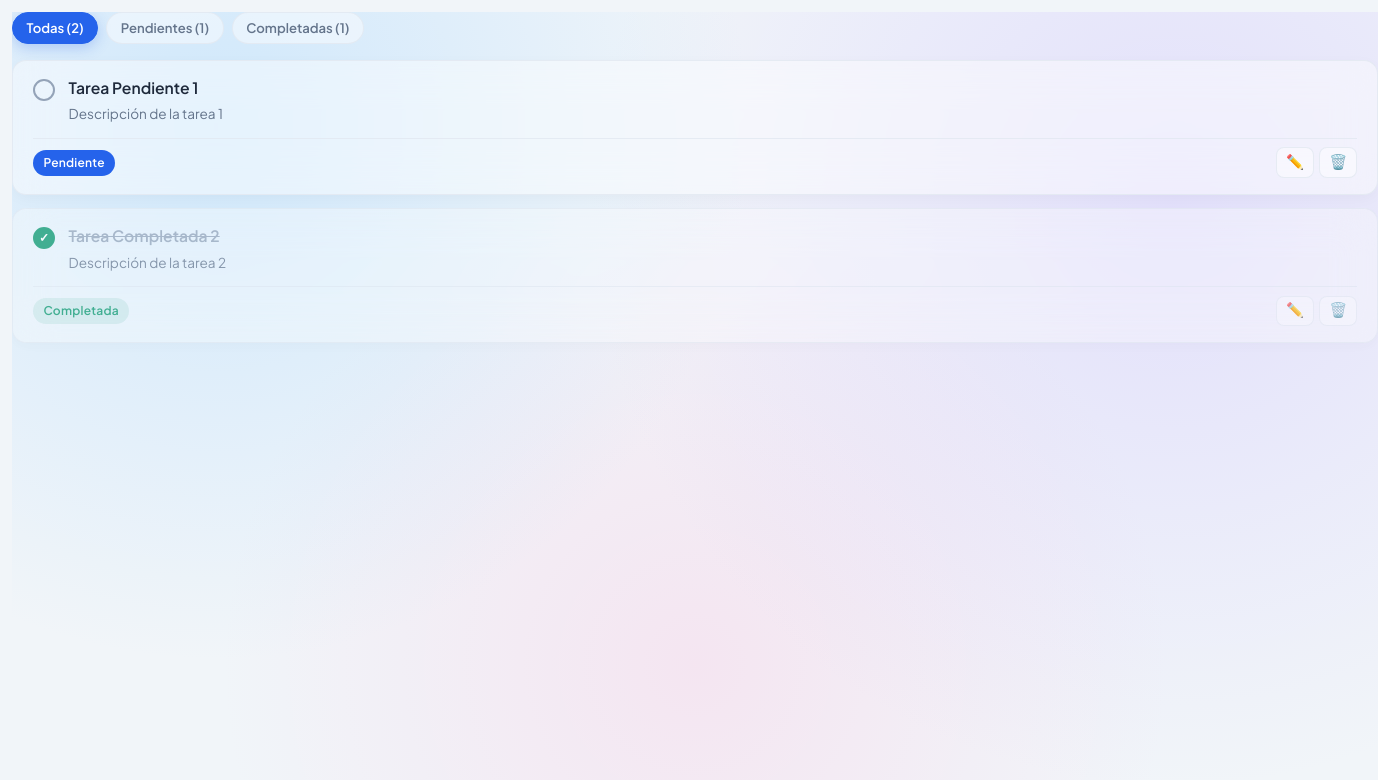
Test case: Componente: TodoList › debe filtrar las tareas reactivamente por pestaña (Todas / Pendientes / Completadas)
Note: Filtro por Pendientes
Click the button "Pendientes (1)" at (165, 28), box [106,12,224,44]
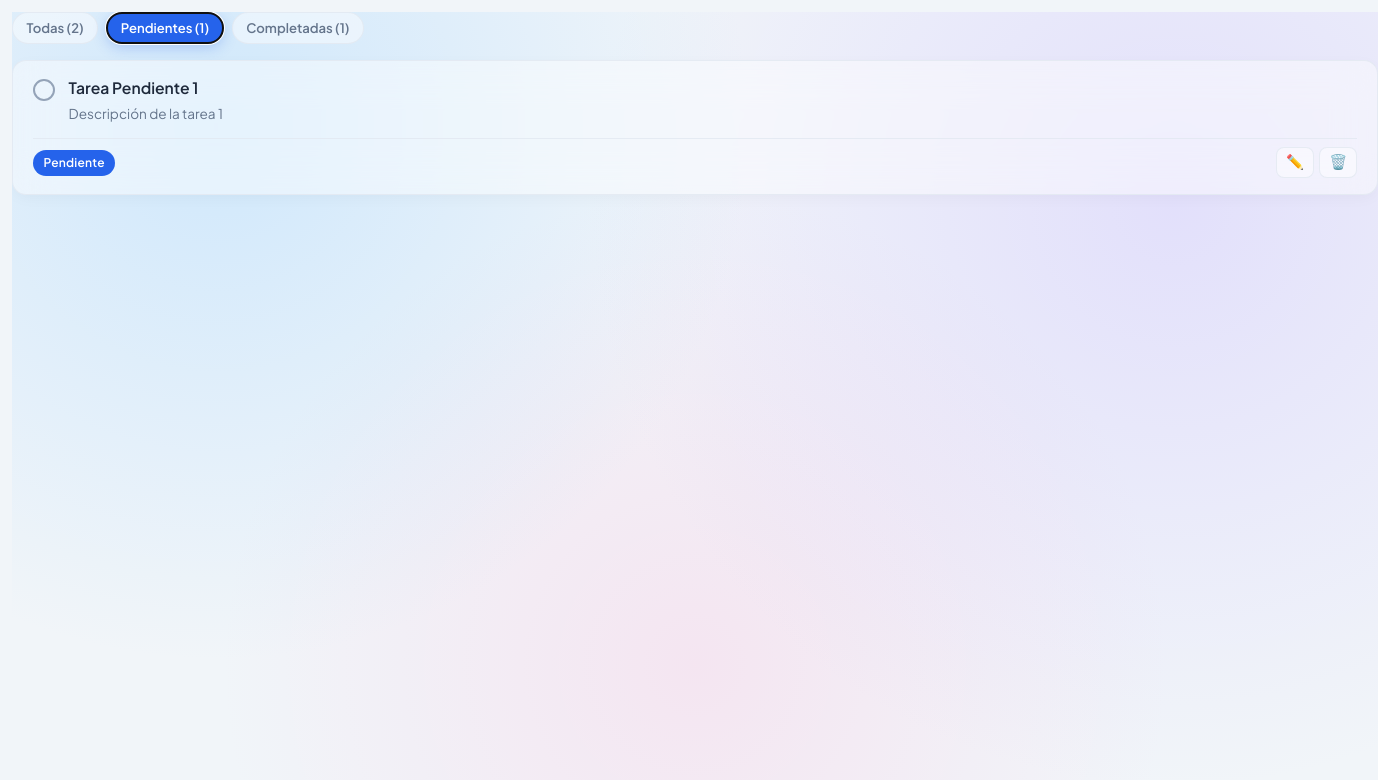
Check: the heading "Tarea Pendiente 1" is shown, box [69,78,198,97]
Check: the heading "Tarea Completada 2" is gone
Note: Filtro por Completadas
Click the button "Completadas (1)" at (298, 28), box [232,12,364,44]
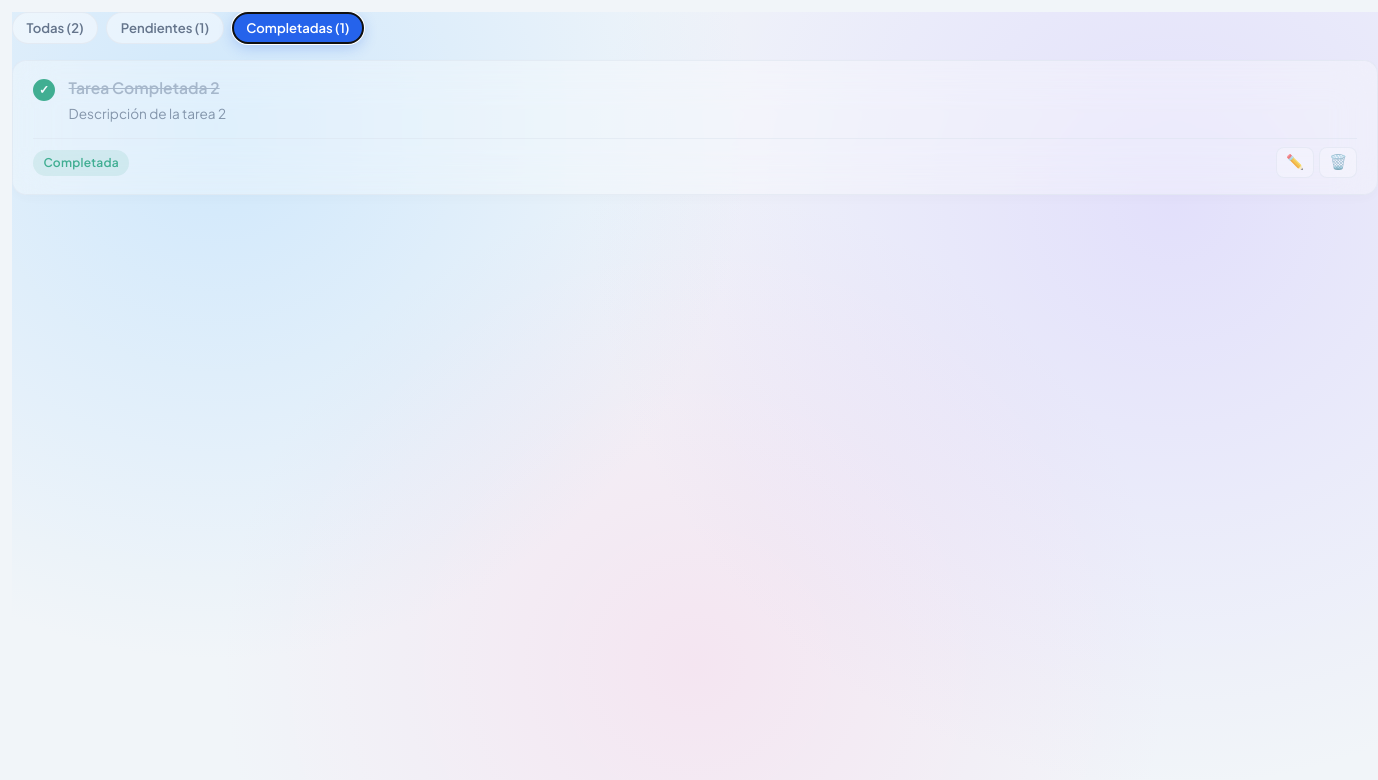
Check: the heading "Tarea Pendiente 1" is gone
Check: the heading "Tarea Completada 2" is shown, box [69,78,220,97]
